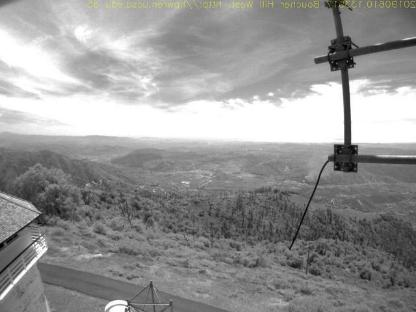smoke: (305, 146, 331, 182)
